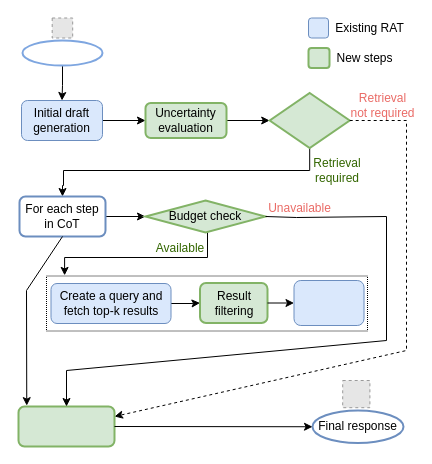
Some shapes in this 432 by 464 pixel diagram are drawn without their labels. Grey dashed boxes stand in for pictures. Each missing label, with the box of its shape:
CoT trajectory correction: (17, 405, 115, 447)
Retrieval decision: (268, 92, 350, 148)
Revise the draft: (293, 280, 364, 326)
User query: (21, 39, 103, 66)
